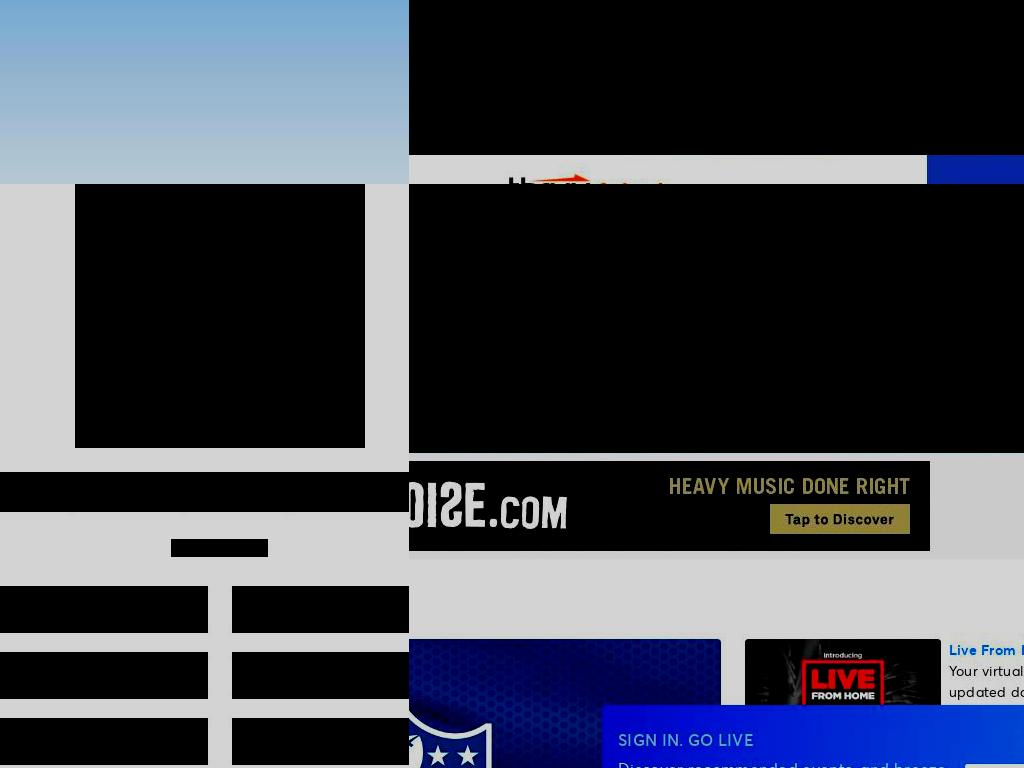button: (0, 586, 208, 633), (0, 652, 208, 699), (0, 718, 208, 765), (232, 586, 409, 633), (232, 652, 409, 699), (232, 718, 409, 765), (417, 184, 562, 239), (468, 393, 650, 429), (663, 393, 845, 429), (858, 393, 1024, 429), (561, 184, 646, 239), (645, 184, 722, 239), (946, 184, 1010, 239), (470, 317, 527, 369), (965, 321, 1024, 365), (710, 60, 804, 80), (598, 60, 691, 80), (823, 60, 916, 80), (409, 393, 455, 429), (948, 639, 1024, 660), (935, 60, 1006, 80)
field: (526, 317, 962, 369), (510, 0, 839, 34), (840, 0, 1024, 34)
heading: (409, 263, 1024, 293), (0, 472, 409, 512)
iframe: (409, 461, 930, 551)
image: (409, 184, 1024, 453), (479, 184, 1024, 453), (409, 0, 1024, 155), (75, 184, 365, 448), (509, 174, 673, 184), (486, 331, 511, 355), (710, 62, 727, 78), (823, 62, 840, 78), (935, 62, 952, 78), (437, 335, 454, 351), (598, 62, 614, 78), (523, 0, 537, 13), (853, 0, 867, 13)
text: (618, 729, 949, 750), (948, 660, 1024, 744), (481, 394, 637, 428), (676, 394, 832, 428), (871, 394, 1024, 428), (618, 758, 949, 768), (948, 639, 1024, 660), (409, 394, 442, 428), (731, 64, 804, 79), (619, 64, 691, 79), (844, 64, 916, 79), (171, 539, 224, 557), (665, 198, 706, 220), (224, 539, 268, 557), (956, 64, 1005, 79), (966, 198, 994, 220)
